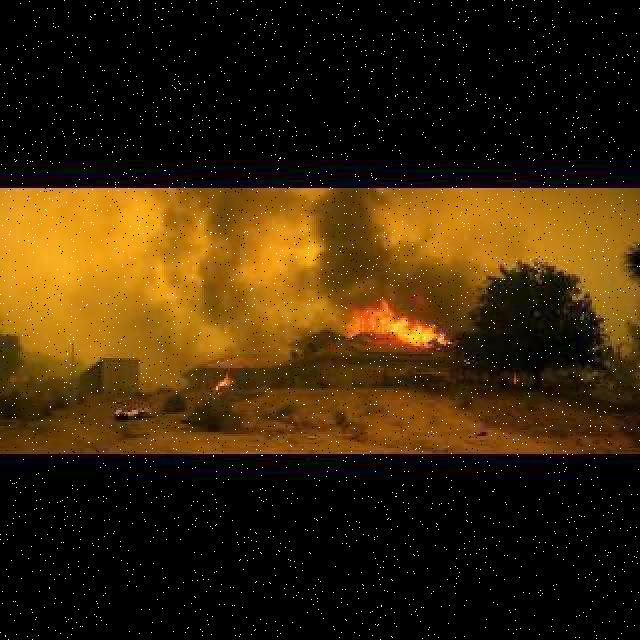fire: (366, 307, 451, 357)
smoke: (152, 192, 472, 316)
